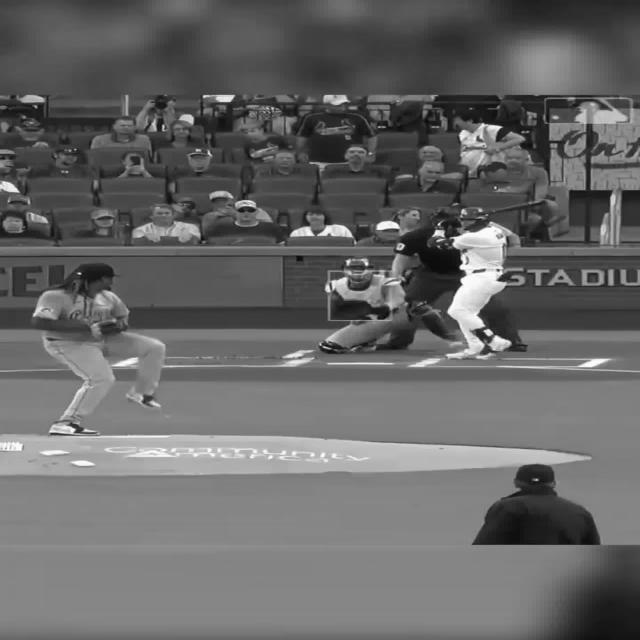base: (325, 361, 394, 365)
baseball_glove: (336, 299, 374, 319), (86, 318, 125, 336)
bat: (488, 200, 550, 217)
shoe: (47, 421, 98, 436), (126, 394, 163, 409), (447, 347, 486, 361), (482, 340, 514, 357)
